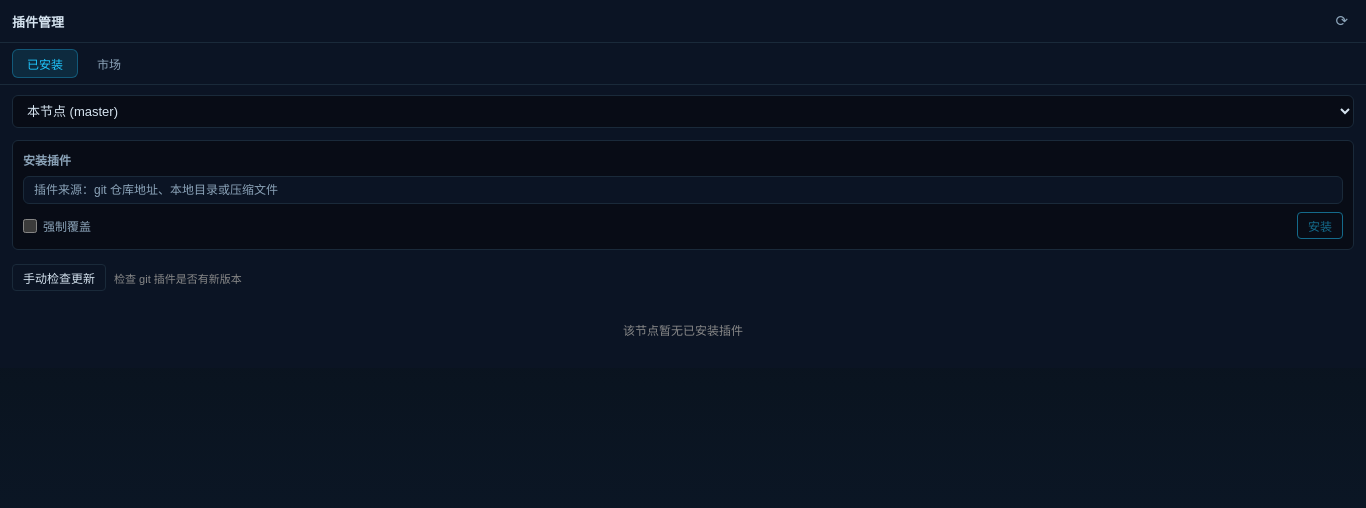
it: PluginSidebar › 市场 tab：点击下一页加载 page=2
Step 1. Click the button "市场" → [109, 64], box [82,49,136,78]
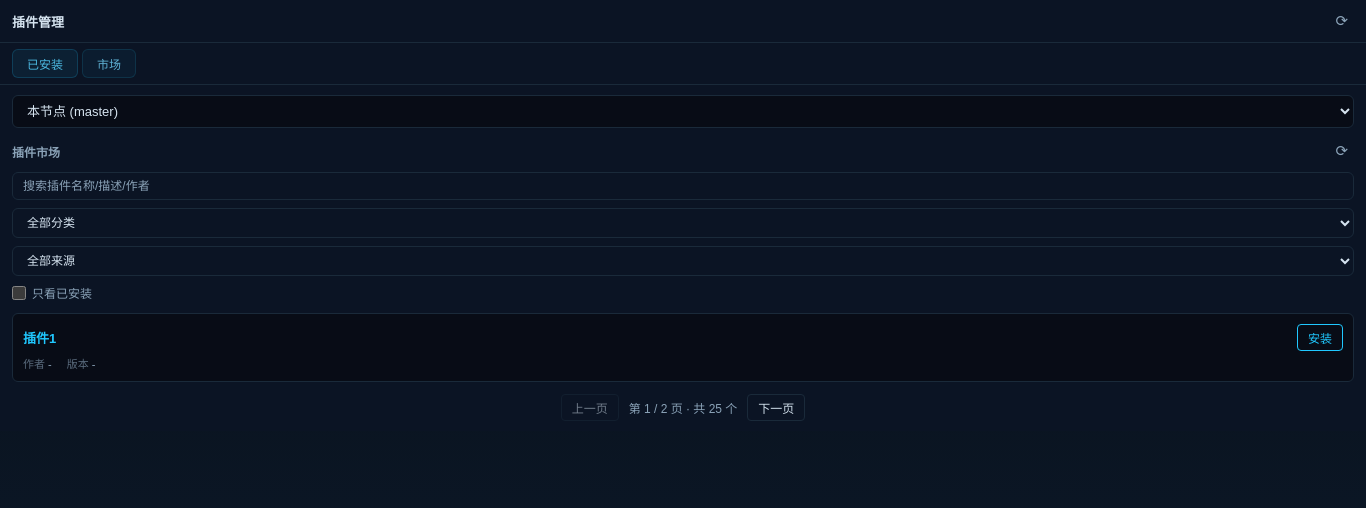
Check: the text "插件1" is shown, box [23,328,56,347]
Step 2. Click the button "下一页" → [776, 408], box [747,394,805,421]
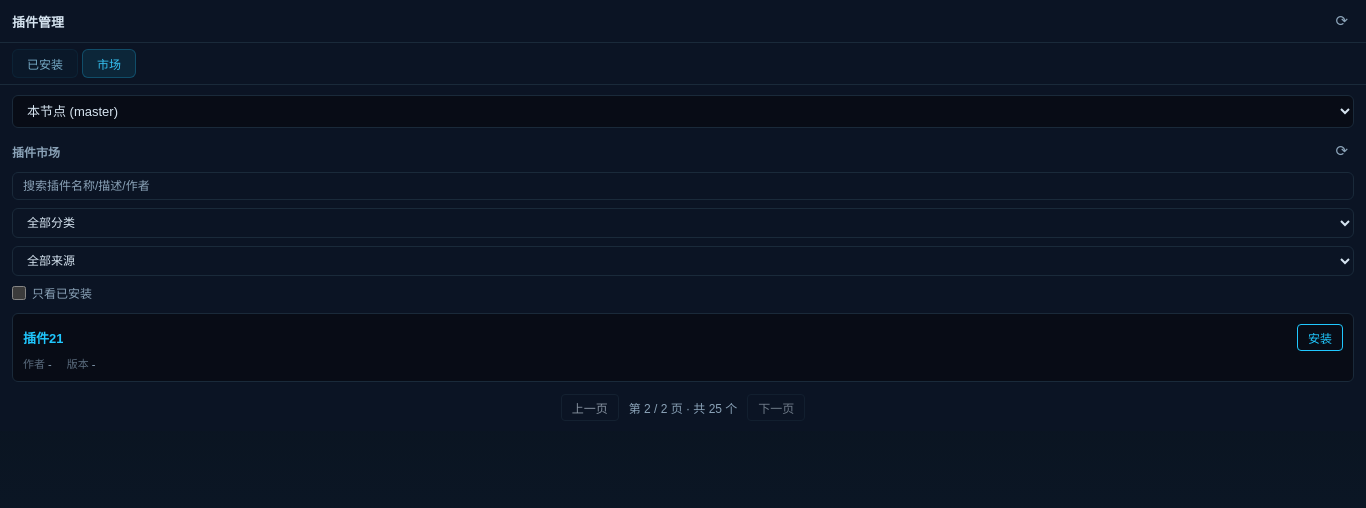
Check: the text "插件21" is shown, box [23,328,64,347]
